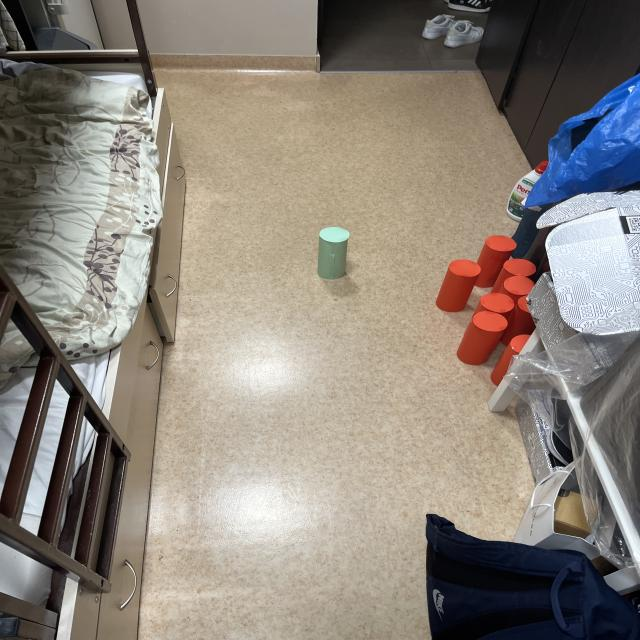meta: (317, 227, 349, 280)
